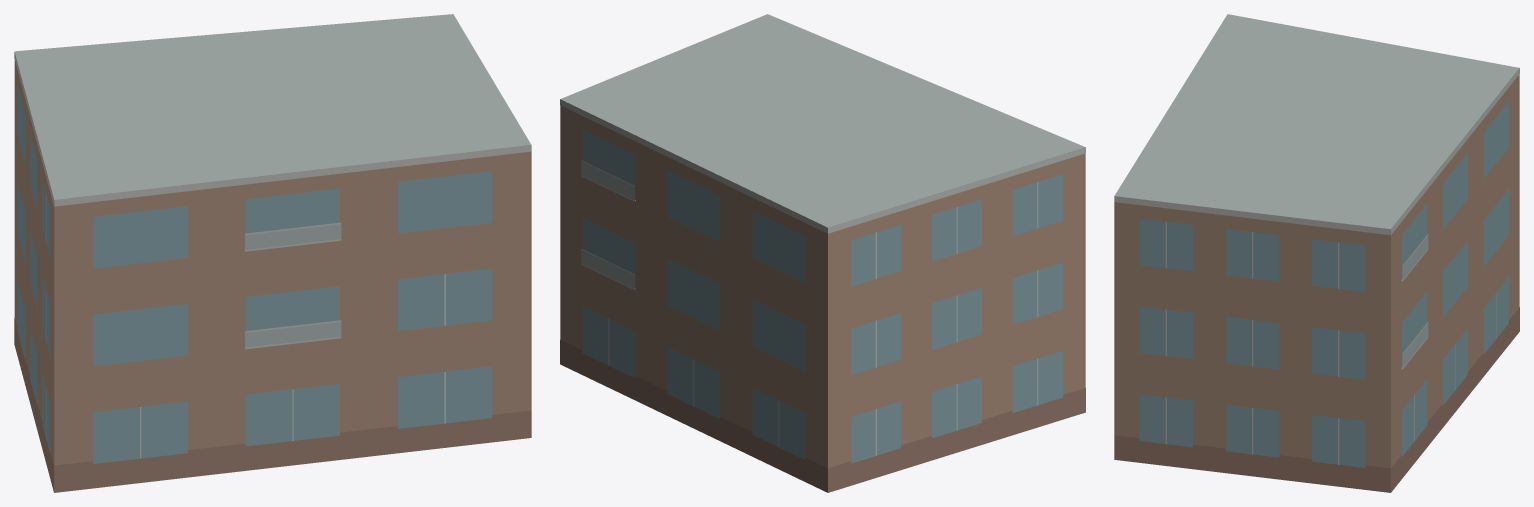
The model's file is survey-upis-33029123.glb.
3 views of the same model, side by side, from view 1: azimuth 30°, elevation 25°; view 2: azimuth 150°, elevation 25°; view 3: azimuth 270°, elevation 25° (orthographic). The views are drawn at different scales.
Parts seen in each view (by area): view 1: survey-upis-33029123.tmp; view 2: survey-upis-33029123.tmp; view 3: survey-upis-33029123.tmp.
Part boxes in pixels (left/top/right/bottom): survey-upis-33029123.tmp: left=14, top=14, right=531, bottom=492; survey-upis-33029123.tmp: left=560, top=14, right=1085, bottom=492; survey-upis-33029123.tmp: left=1114, top=14, right=1519, bottom=492.
Size of the model in its own units: 18.65 by 10.65 by 14.85.
